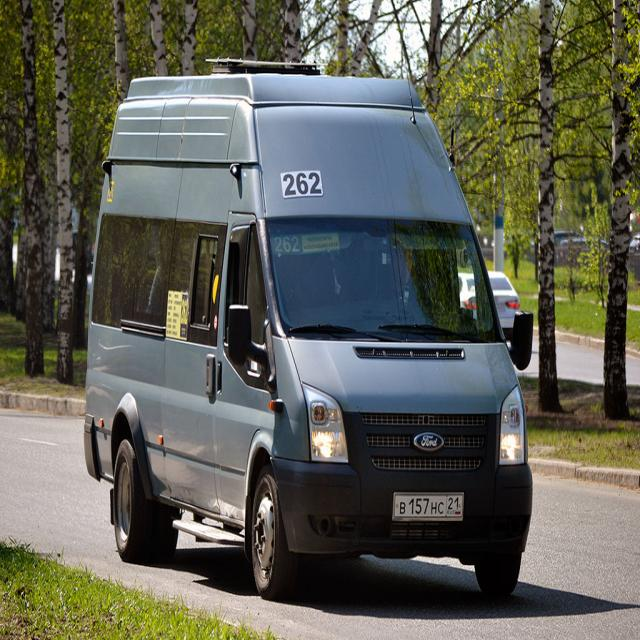number-of-bus: (281, 170, 326, 198), (271, 234, 302, 257)
